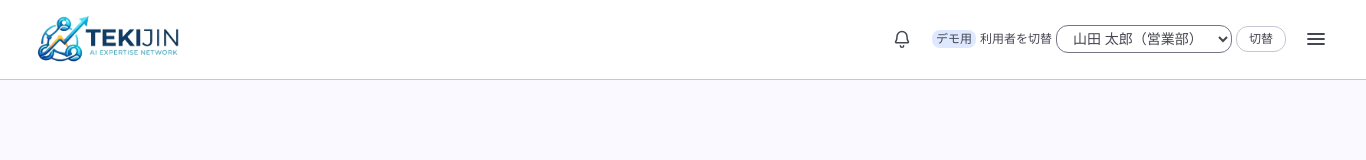
Scenario: AppHeader › keeps 切替 disabled until the selection differs from the current user (#231)
Expected: the button "切替" is disabled, [1236,26,1286,52]
Select "佐藤 花子（技術部）" in the dropdown labelled "デモ用 利用者を切替 切替" at (1144, 39), box [1056,25,1232,53]
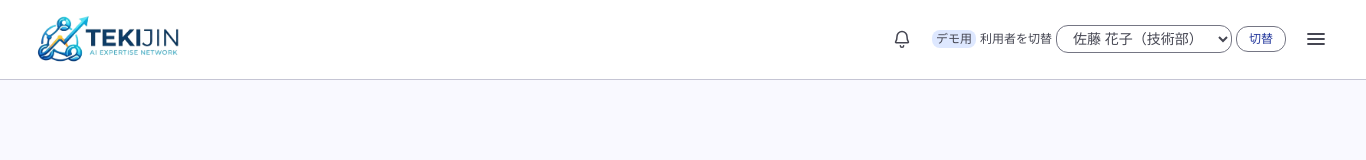
Expected: the button "切替" is enabled, [1236,26,1286,52]
Select "山田 太郎（営業部）" in the dropdown labelled "デモ用 利用者を切替 切替" at (1144, 39), box [1056,25,1232,53]
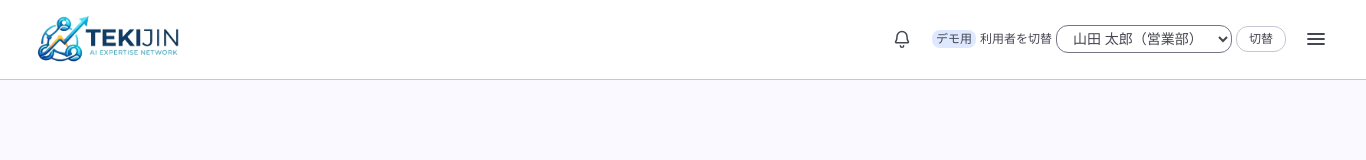
Expected: the button "切替" is disabled, [1236,26,1286,52]
